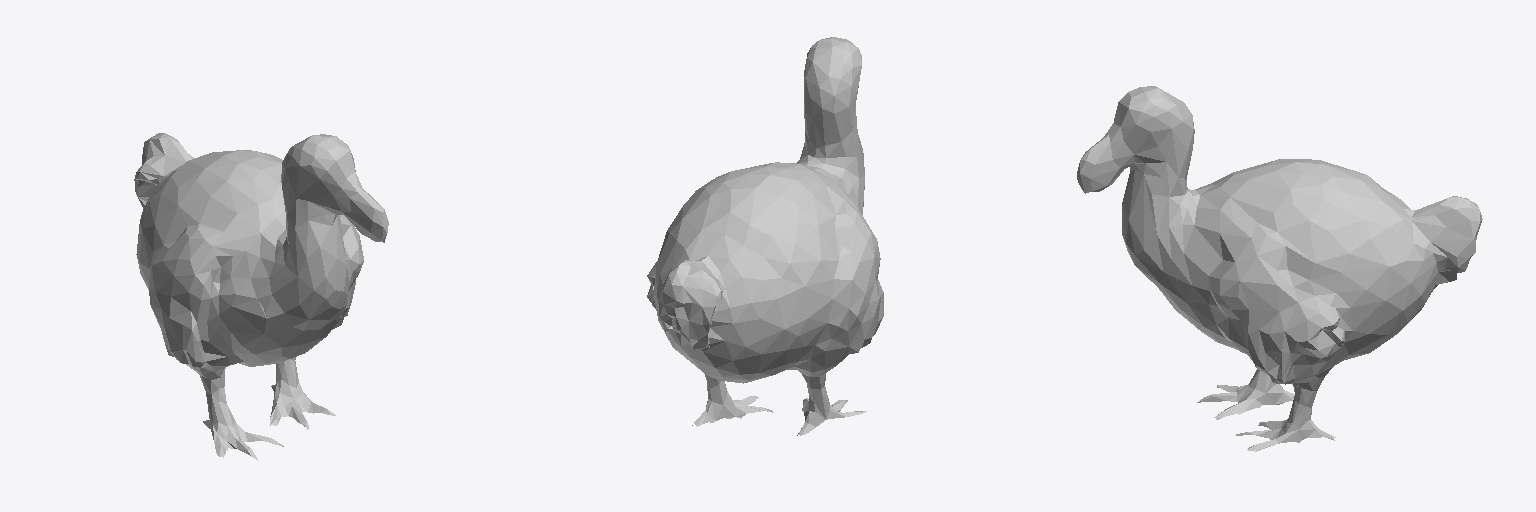
The model's file is dodo.obj.
3 renders of one model, left to right at view 1: azimuth 30°, elevation 25°; view 2: azimuth 150°, elevation 25°; view 3: azimuth 270°, elevation 25°, orthographic.
Parts seen in each view (by area): view 1: dodo_lowpoly_dodo.025; view 2: dodo_lowpoly_dodo.025; view 3: dodo_lowpoly_dodo.025.
Boxes of the visible parts, x1=… form: dodo_lowpoly_dodo.025: x1=134, y1=133, x2=388, y2=460; dodo_lowpoly_dodo.025: x1=647, y1=37, x2=883, y2=435; dodo_lowpoly_dodo.025: x1=1077, y1=86, x2=1482, y2=451.
Size of the model in its own units: 0.8066 by 1.3 by 1.43.